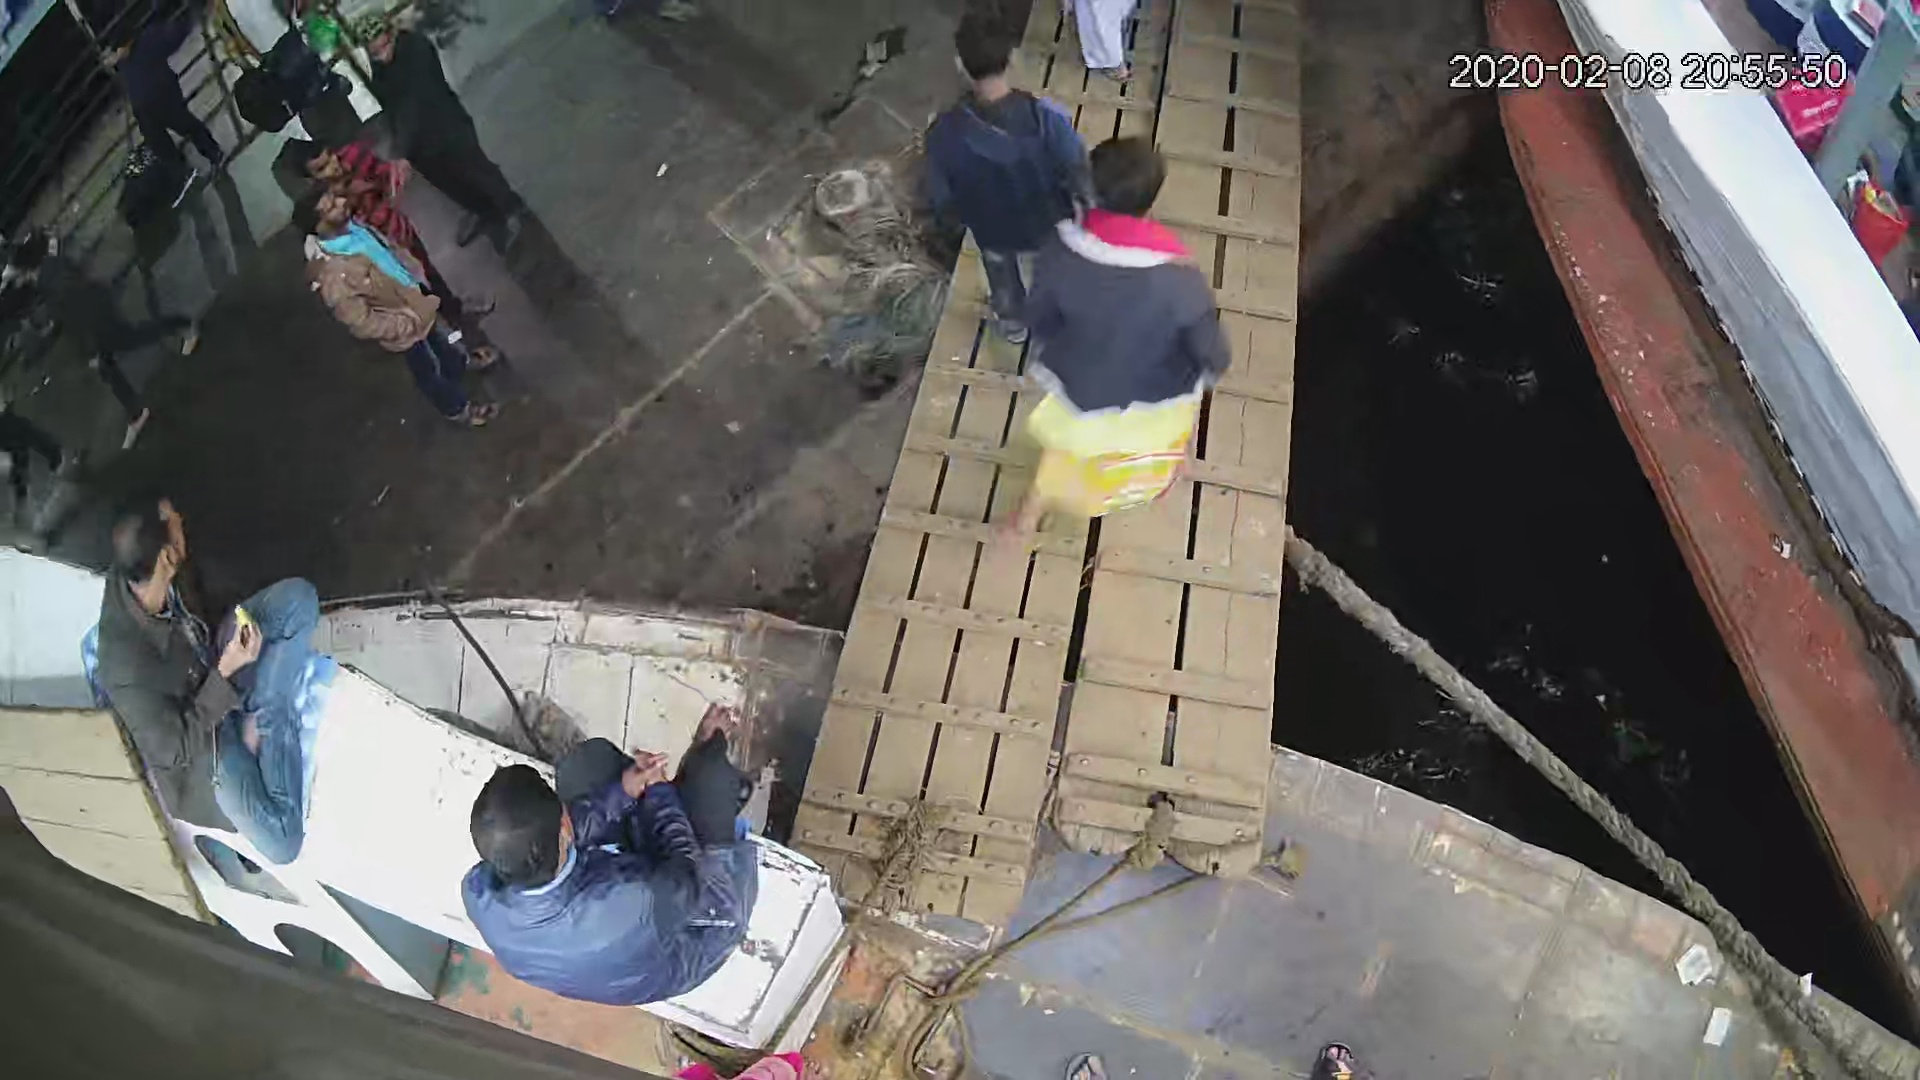person: (1000, 132, 1235, 552), (449, 695, 765, 998), (93, 491, 324, 866), (287, 182, 513, 427), (914, 5, 1086, 317), (346, 11, 531, 257), (9, 227, 204, 452), (77, 31, 223, 208)
